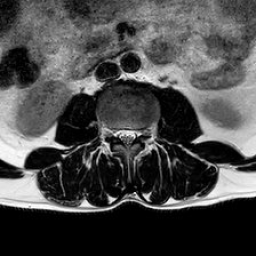CCS_normal: (123, 120, 130, 156)
LFS_normal: (138, 117, 146, 144)
LLS_normal: (130, 120, 138, 148)
RFS_normal: (107, 118, 115, 145)
RLS_normal: (115, 121, 123, 149)
